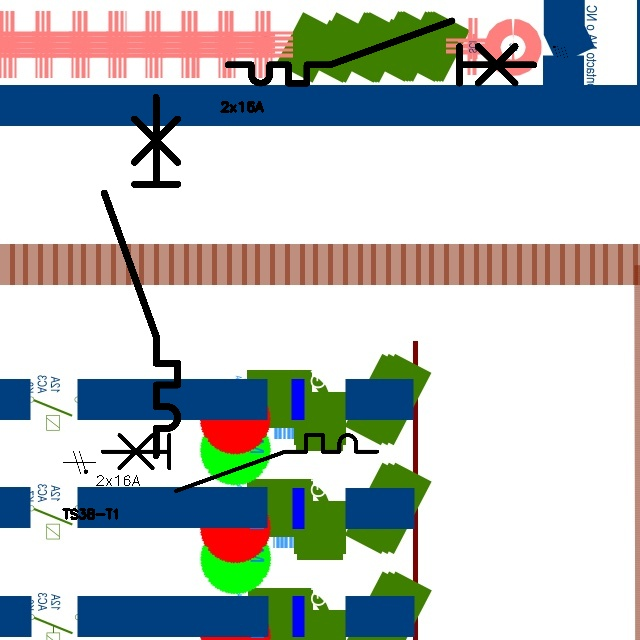interruptor_termomagnetico: (95, 88, 187, 465), (220, 13, 541, 91), (95, 428, 383, 498)
